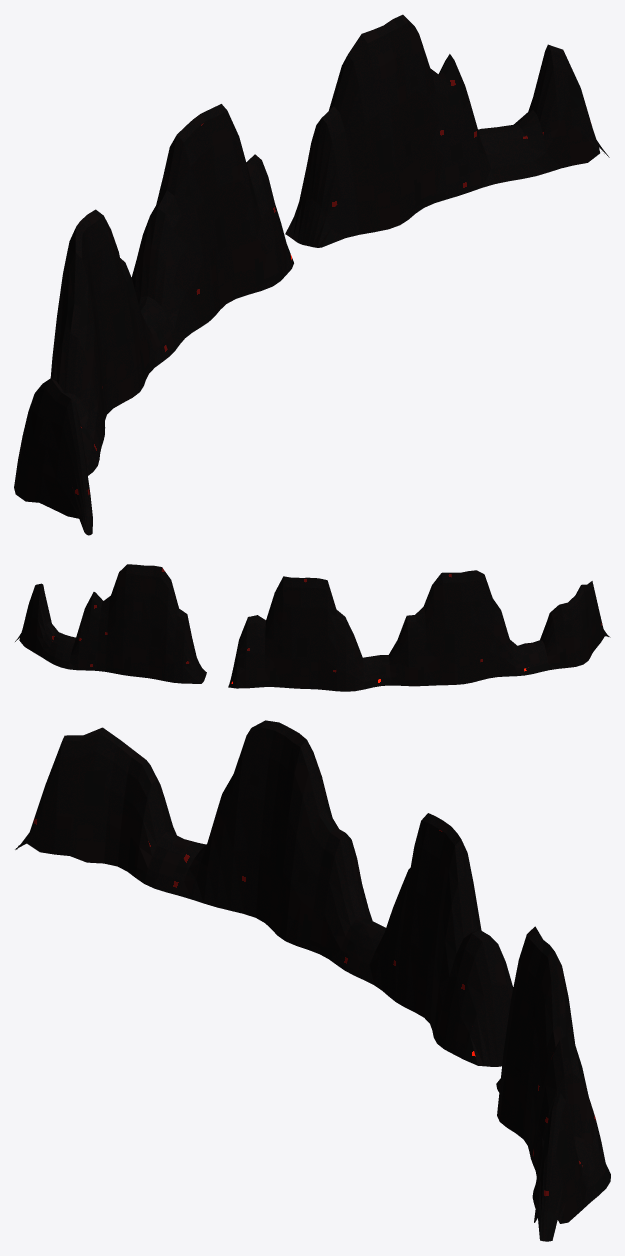
The model's file is map_base_cover_s4.glb.
3 views of the same model, one above another, from view 1: azimuth 30°, elevation 25°; view 2: azimuth 150°, elevation 25°; view 3: azimuth 270°, elevation 25° (orthographic). The views are drawn at different scales.
Visible parts, largest first — view 1: MapBaseCoverS4Rock; view 2: MapBaseCoverS4Rock; view 3: MapBaseCoverS4Rock.
Boxes of the visible parts, x1,y1,x2,y2 form: MapBaseCoverS4Rock: [14, 14, 609, 535]; MapBaseCoverS4Rock: [15, 564, 610, 691]; MapBaseCoverS4Rock: [15, 720, 610, 1241].
Size of what is drawn, in the model's own units: 43.03 by 9.83 by 27.7.
Materials: 2 (2 with a texture image).
